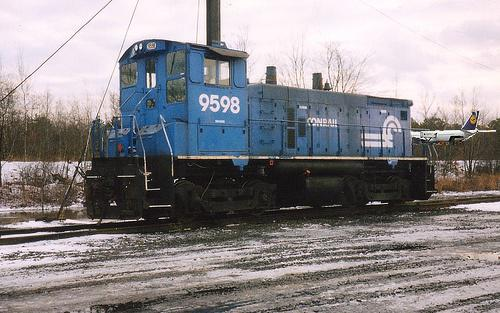tampered: (411, 112, 496, 145)
